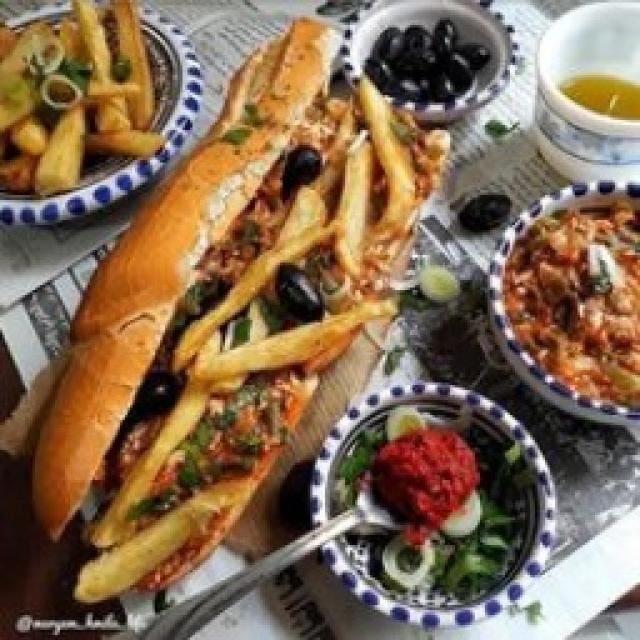Harissa: (371, 428, 480, 531)
